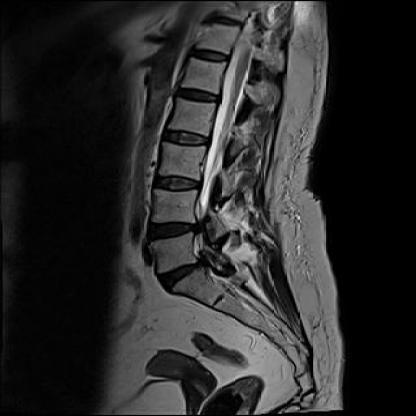Disc Bulgerotation: (158, 262, 205, 286), (148, 220, 197, 242)
